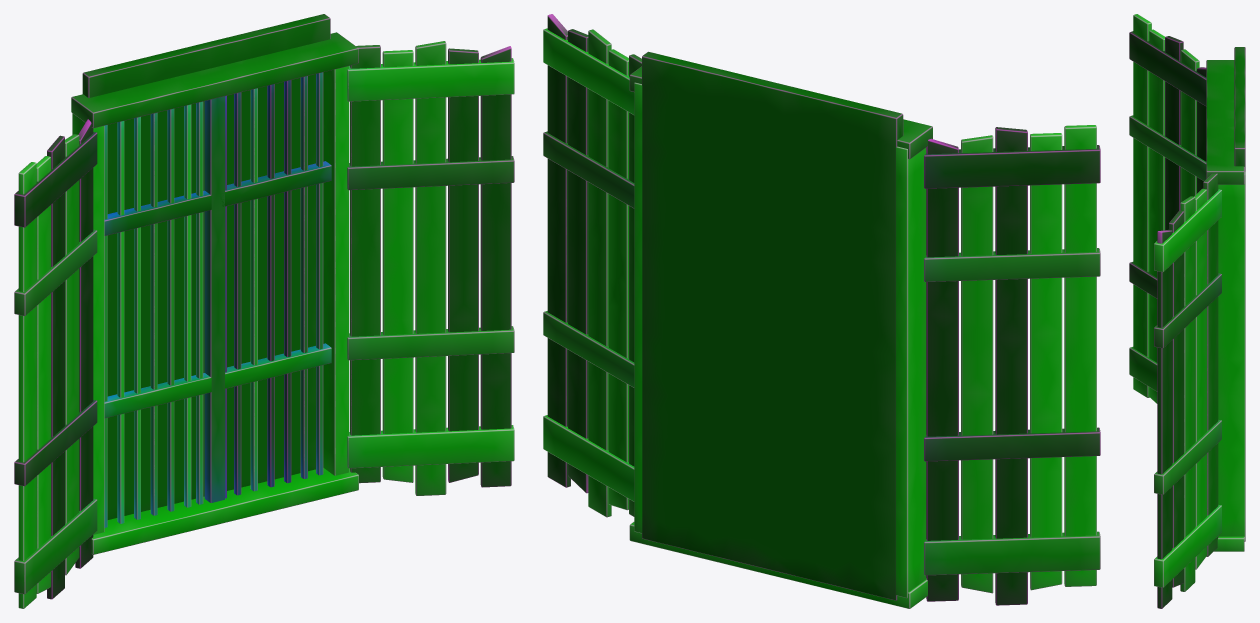
File: window_400x350_02.fbx
The picture shows the model from 3 angles, left to right: view 1: azimuth 30°, elevation 25°; view 2: azimuth 150°, elevation 25°; view 3: azimuth 270°, elevation 25°; orthographic projection. The views are drawn at different scales.
Parts seen in each view (by area): view 1: window_400x350_02; view 2: window_400x350_02; view 3: window_400x350_02.
Boxes of the visible parts, x1,y1,x2,y2 form: window_400x350_02: (14, 14, 514, 608); window_400x350_02: (543, 14, 1100, 608); window_400x350_02: (1129, 14, 1245, 608).
Bounding box in the file's own units: 2.47 × 2.18 × 0.5628.
